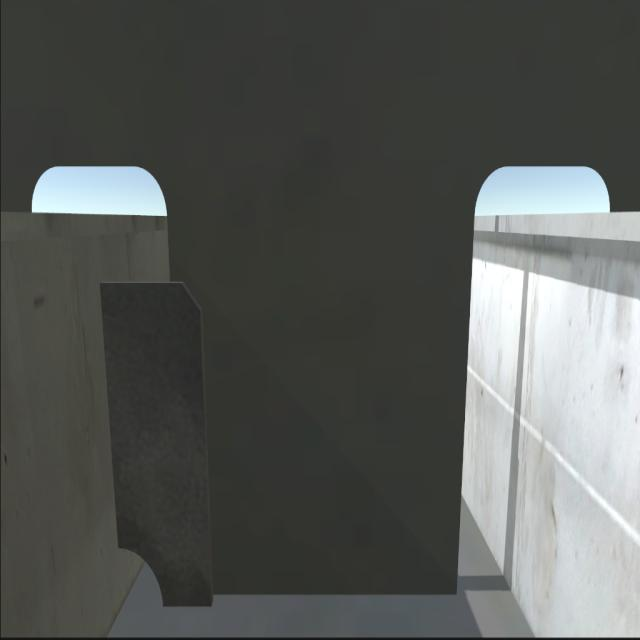fillet_hole: (118, 550, 163, 604)
fillet_yong_jeop_jang: (155, 588, 463, 610)
longi_yong_jeop_jang: (99, 279, 127, 550)
plate_CP03: (100, 279, 209, 605)
